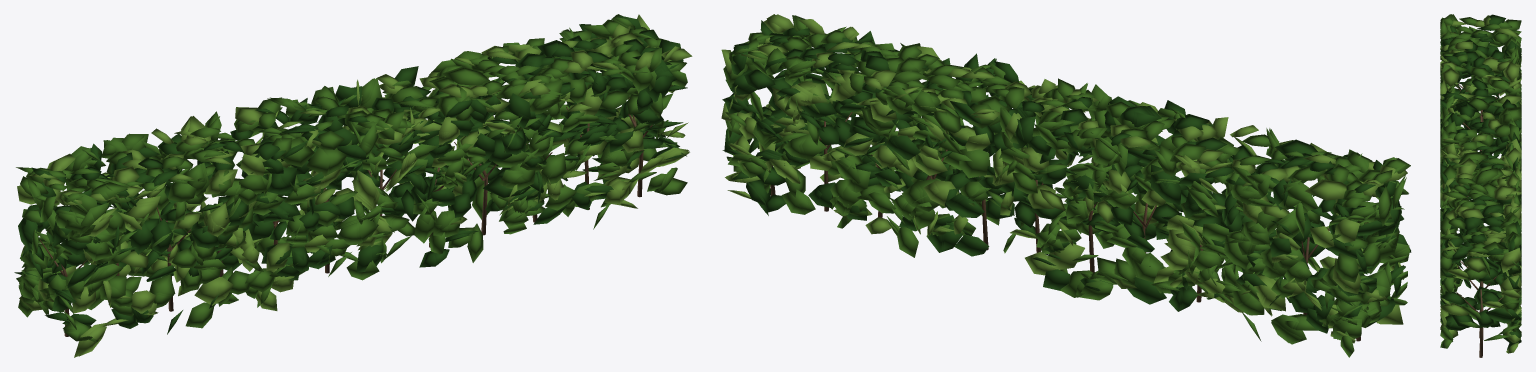
Rendered from MV_Hedge_Straight_4m.fbx.
3 views of the same model, side by side, from view 1: azimuth 30°, elevation 25°; view 2: azimuth 150°, elevation 25°; view 3: azimuth 270°, elevation 25° (orthographic). The views are drawn at different scales.
Visible parts, largest first — view 1: LOD0_Mesh, LOD1_Mesh, LOD2_Mesh; view 2: LOD0_Mesh, LOD1_Mesh, LOD2_Mesh; view 3: LOD0_Mesh, LOD1_Mesh, LOD2_Mesh.
Boxes of the visible parts, left/top/right/bottom form: LOD0_Mesh: left=14, top=14, right=692, bottom=348; LOD1_Mesh: left=15, top=15, right=689, bottom=356; LOD2_Mesh: left=19, top=14, right=688, bottom=357; LOD0_Mesh: left=721, top=14, right=1410, bottom=357; LOD1_Mesh: left=724, top=15, right=1411, bottom=343; LOD2_Mesh: left=721, top=20, right=1409, bottom=344; LOD0_Mesh: left=1440, top=14, right=1521, bottom=357; LOD1_Mesh: left=1440, top=14, right=1521, bottom=355; LOD2_Mesh: left=1440, top=14, right=1521, bottom=343.
Size of the model in its own units: 4 by 1 by 0.6.
